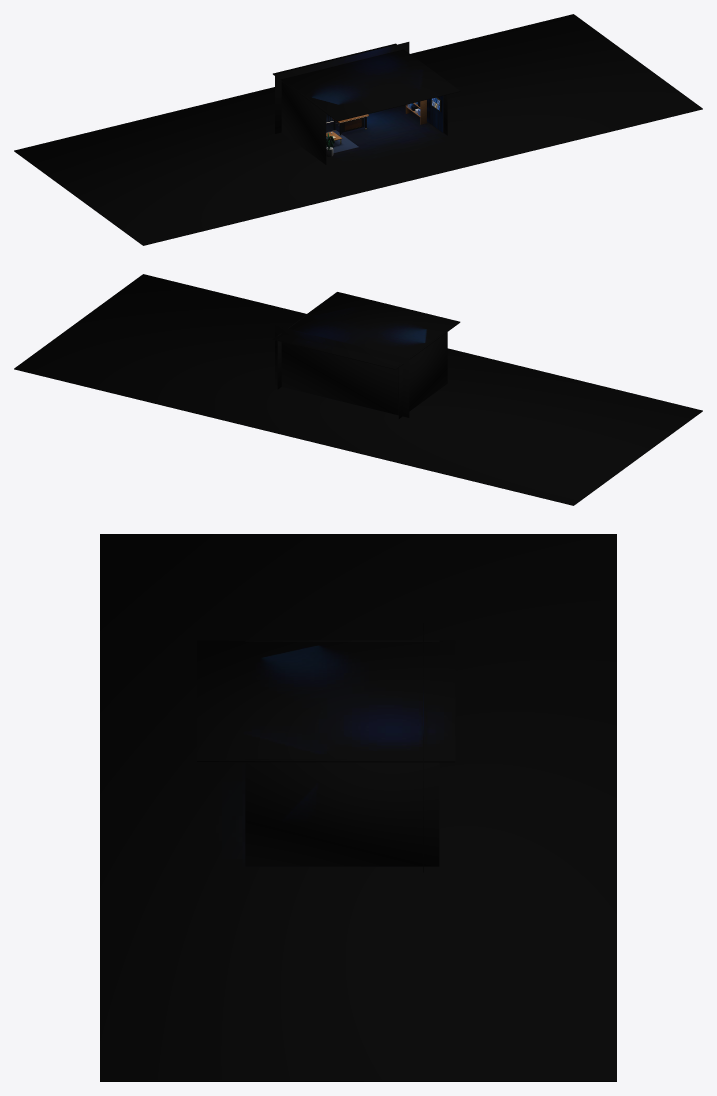
Rendered from studio.glb.
3 renders of one model, top to bottom at view 1: azimuth 30°, elevation 25°; view 2: azimuth 150°, elevation 25°; view 3: azimuth 270°, elevation 25°, orthographic. The views are drawn at different scales.
Parts seen in each view (by area): view 1: room__Cube.164, room__Cube.127, room__Cube.092, room__Cube.058; view 2: room__Cube.164, room__Cube.127, room__Cube.058, room__Cube.092; view 3: room__Cube.164, room__Cube.127, room__Cube.126.
Part boxes in pixels (x1=…): room__Cube.164: x1=14, y1=14, x2=702, y2=245; room__Cube.127: x1=273, y1=43, x2=460, y2=121; room__Cube.092: x1=281, y1=79, x2=326, y2=164; room__Cube.058: x1=275, y1=42, x2=409, y2=133; room__Cube.164: x1=14, y1=274, x2=702, y2=505; room__Cube.127: x1=272, y1=292, x2=460, y2=369; room__Cube.058: x1=275, y1=325, x2=409, y2=417; room__Cube.092: x1=398, y1=330, x2=447, y2=418; room__Cube.164: x1=100, y1=534, x2=616, y2=1081; room__Cube.127: x1=197, y1=640, x2=455, y2=762; room__Cube.126: x1=245, y1=759, x2=439, y2=866.
Bounding box in the file's own units: 40 × 4.6 × 16.
Materials: 301 (300 with a texture image).
